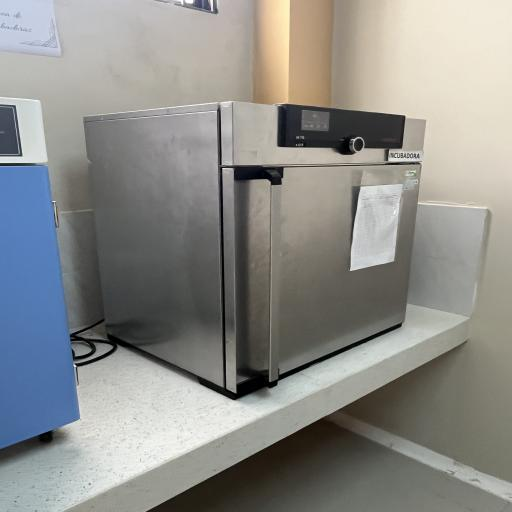Incubadora: (72, 89, 432, 403)
